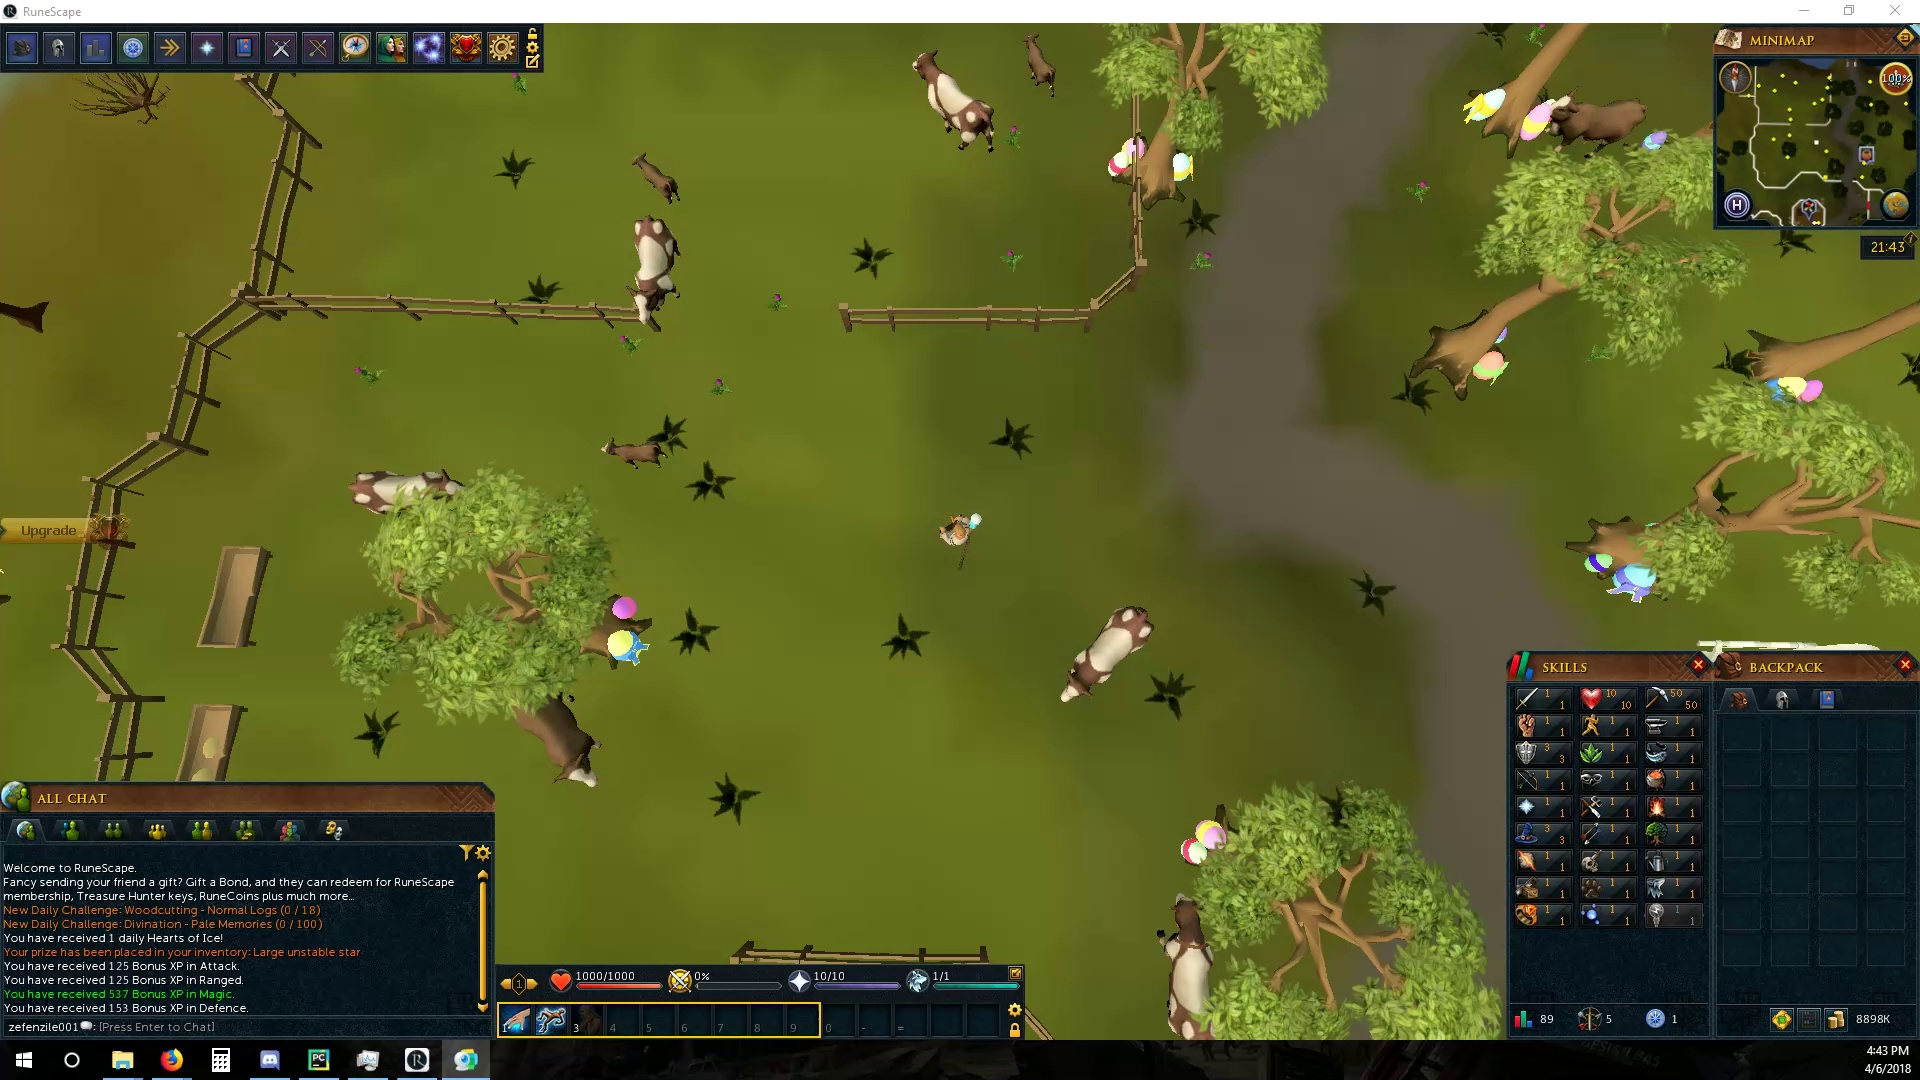calf: (1015, 33, 1059, 102), (632, 152, 680, 206), (597, 439, 673, 469)
cow: (1055, 603, 1159, 705), (1153, 887, 1222, 1038), (910, 47, 998, 158), (510, 695, 611, 789), (340, 465, 476, 524), (1536, 95, 1654, 161), (628, 212, 686, 323)
